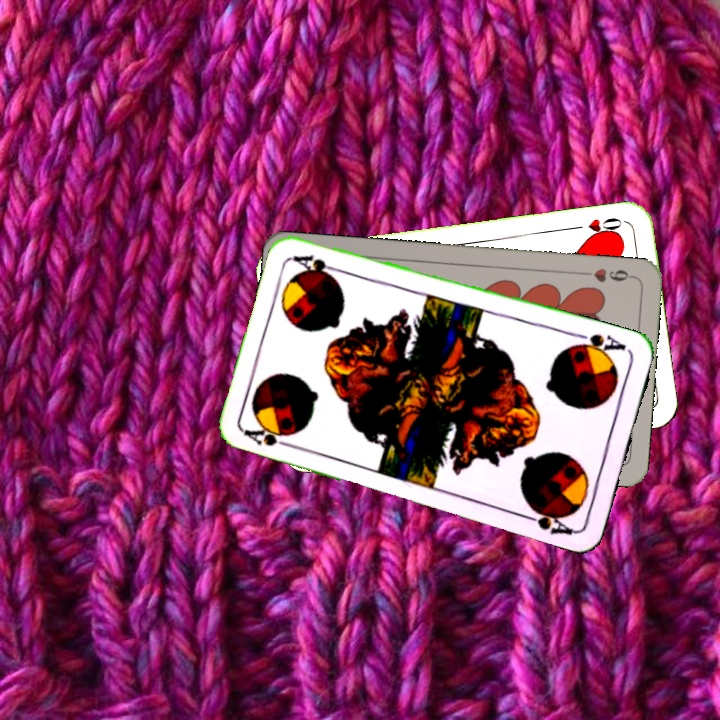H9: (577, 264, 636, 285)
HO: (568, 213, 627, 241)
SA: (569, 329, 628, 360), (241, 422, 299, 451)
